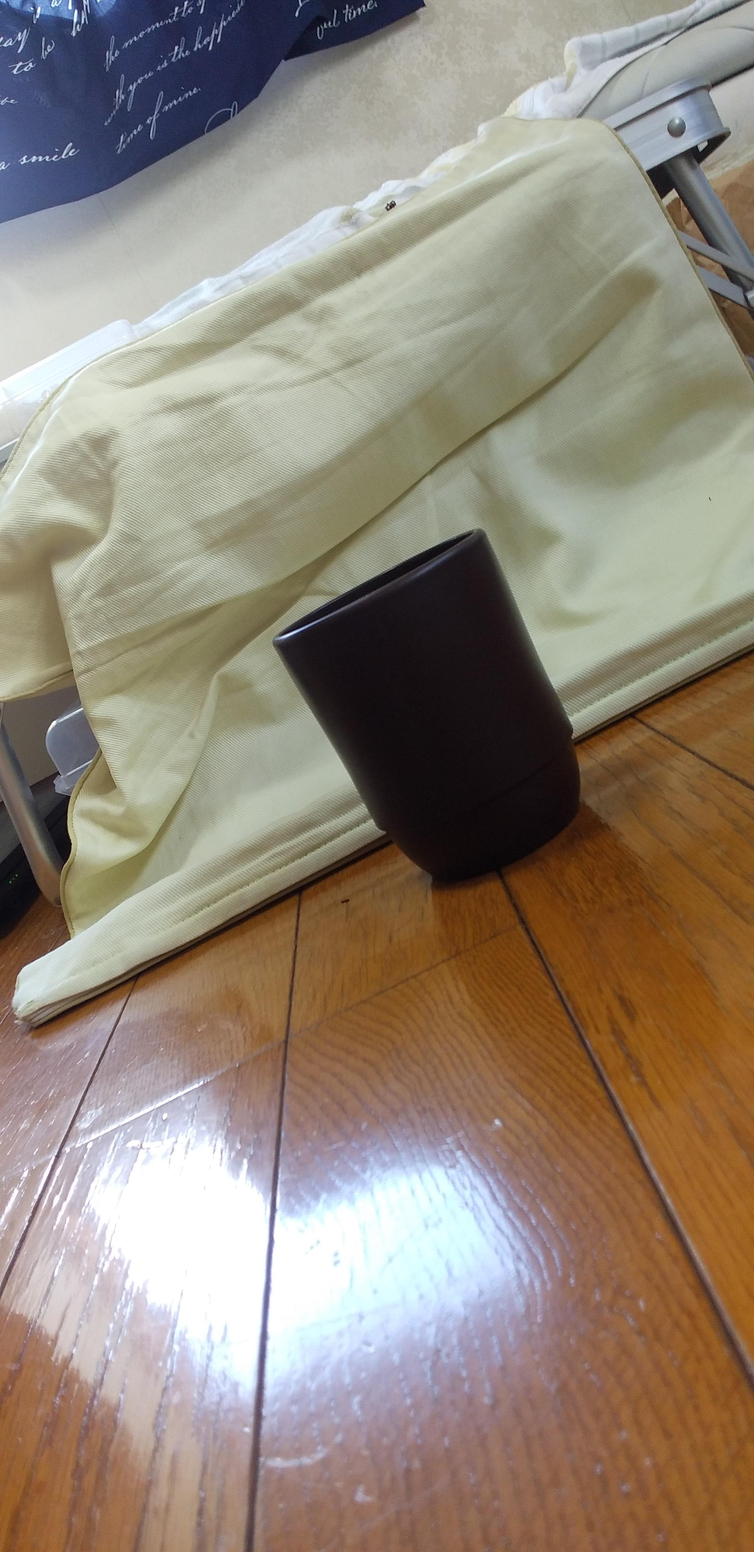mug-real100-3d100: (274, 530, 580, 881)
